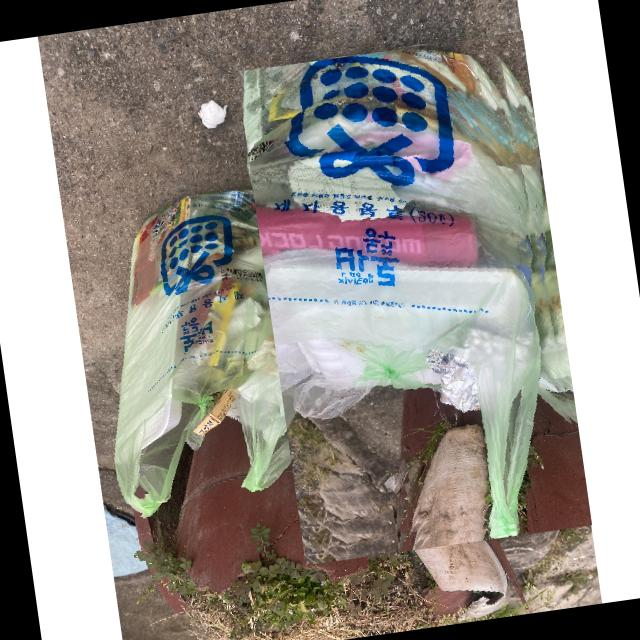general_trashbag: (246, 49, 541, 530)
